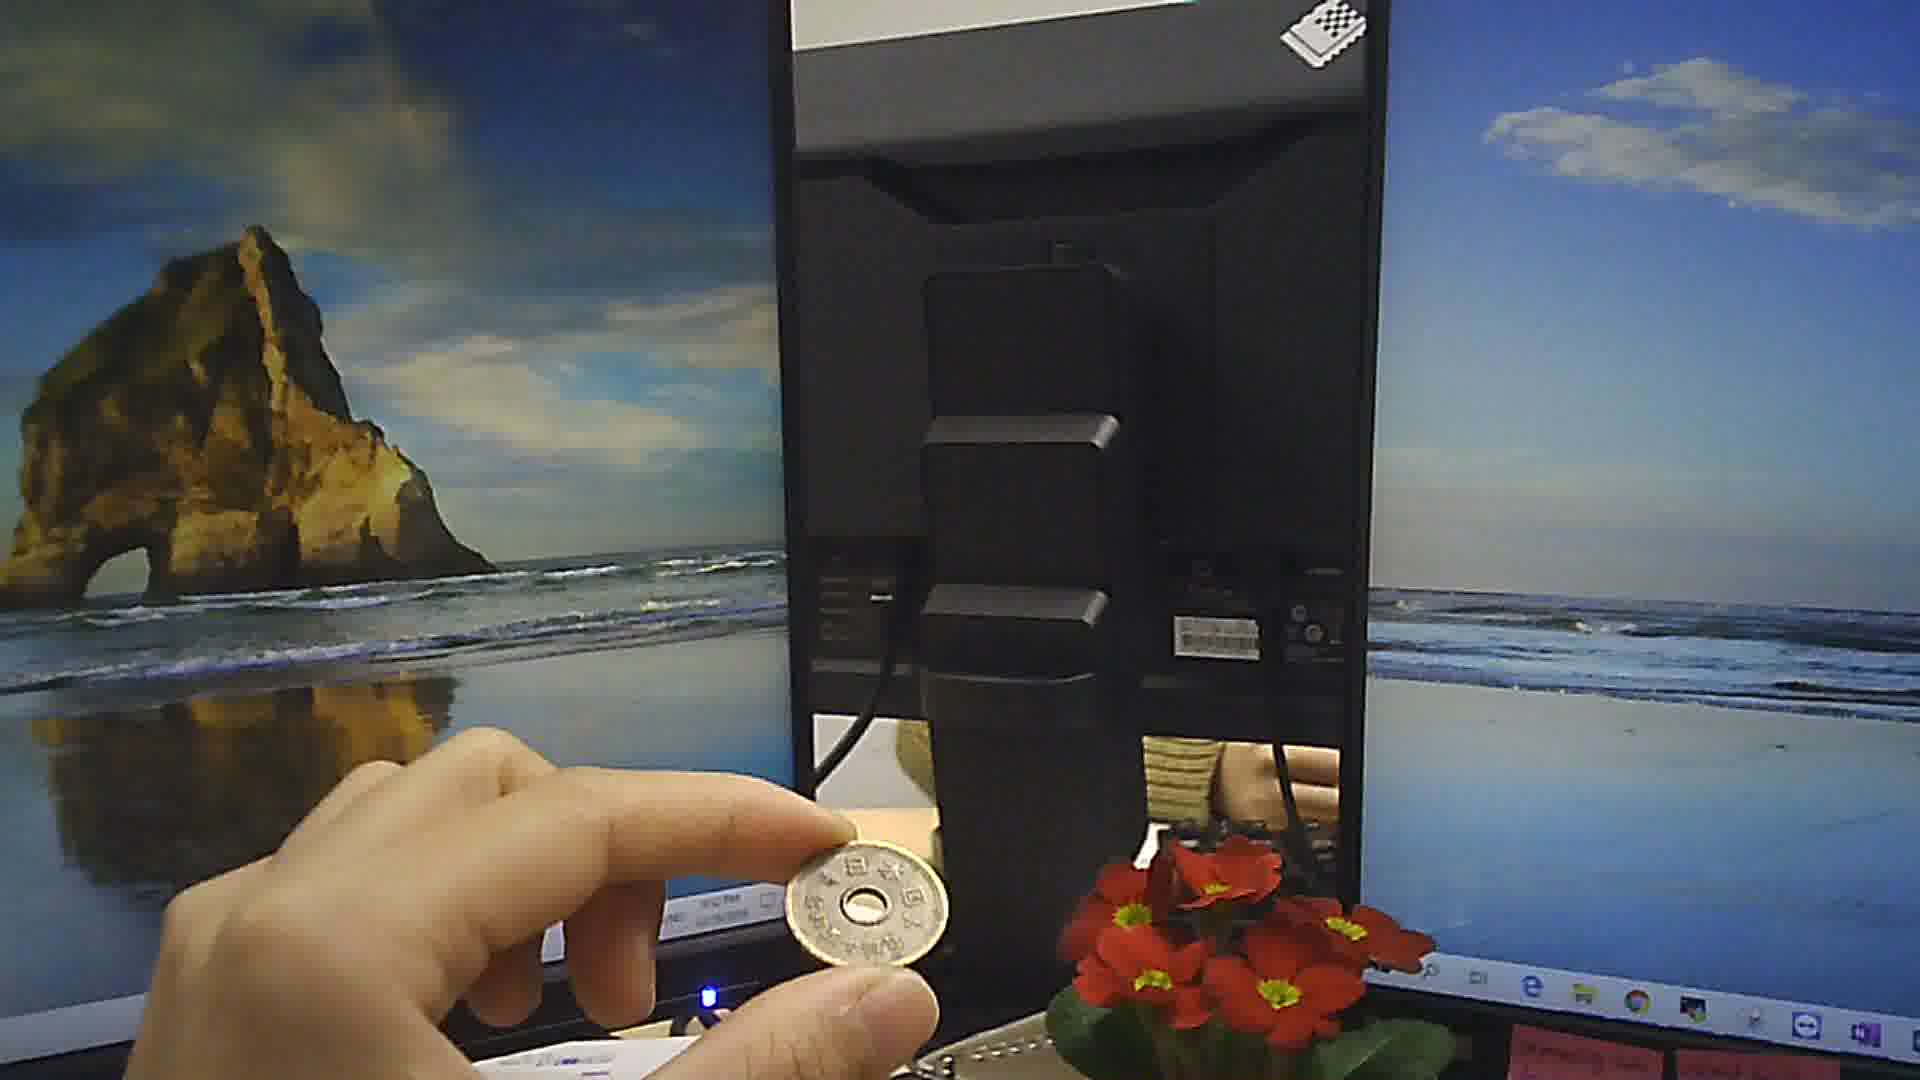5 Yen: (785, 837, 945, 980)
